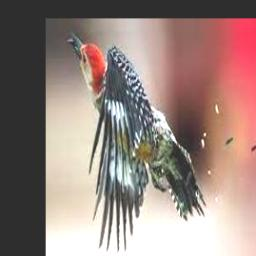Woodpecker: (67, 31, 206, 253)
